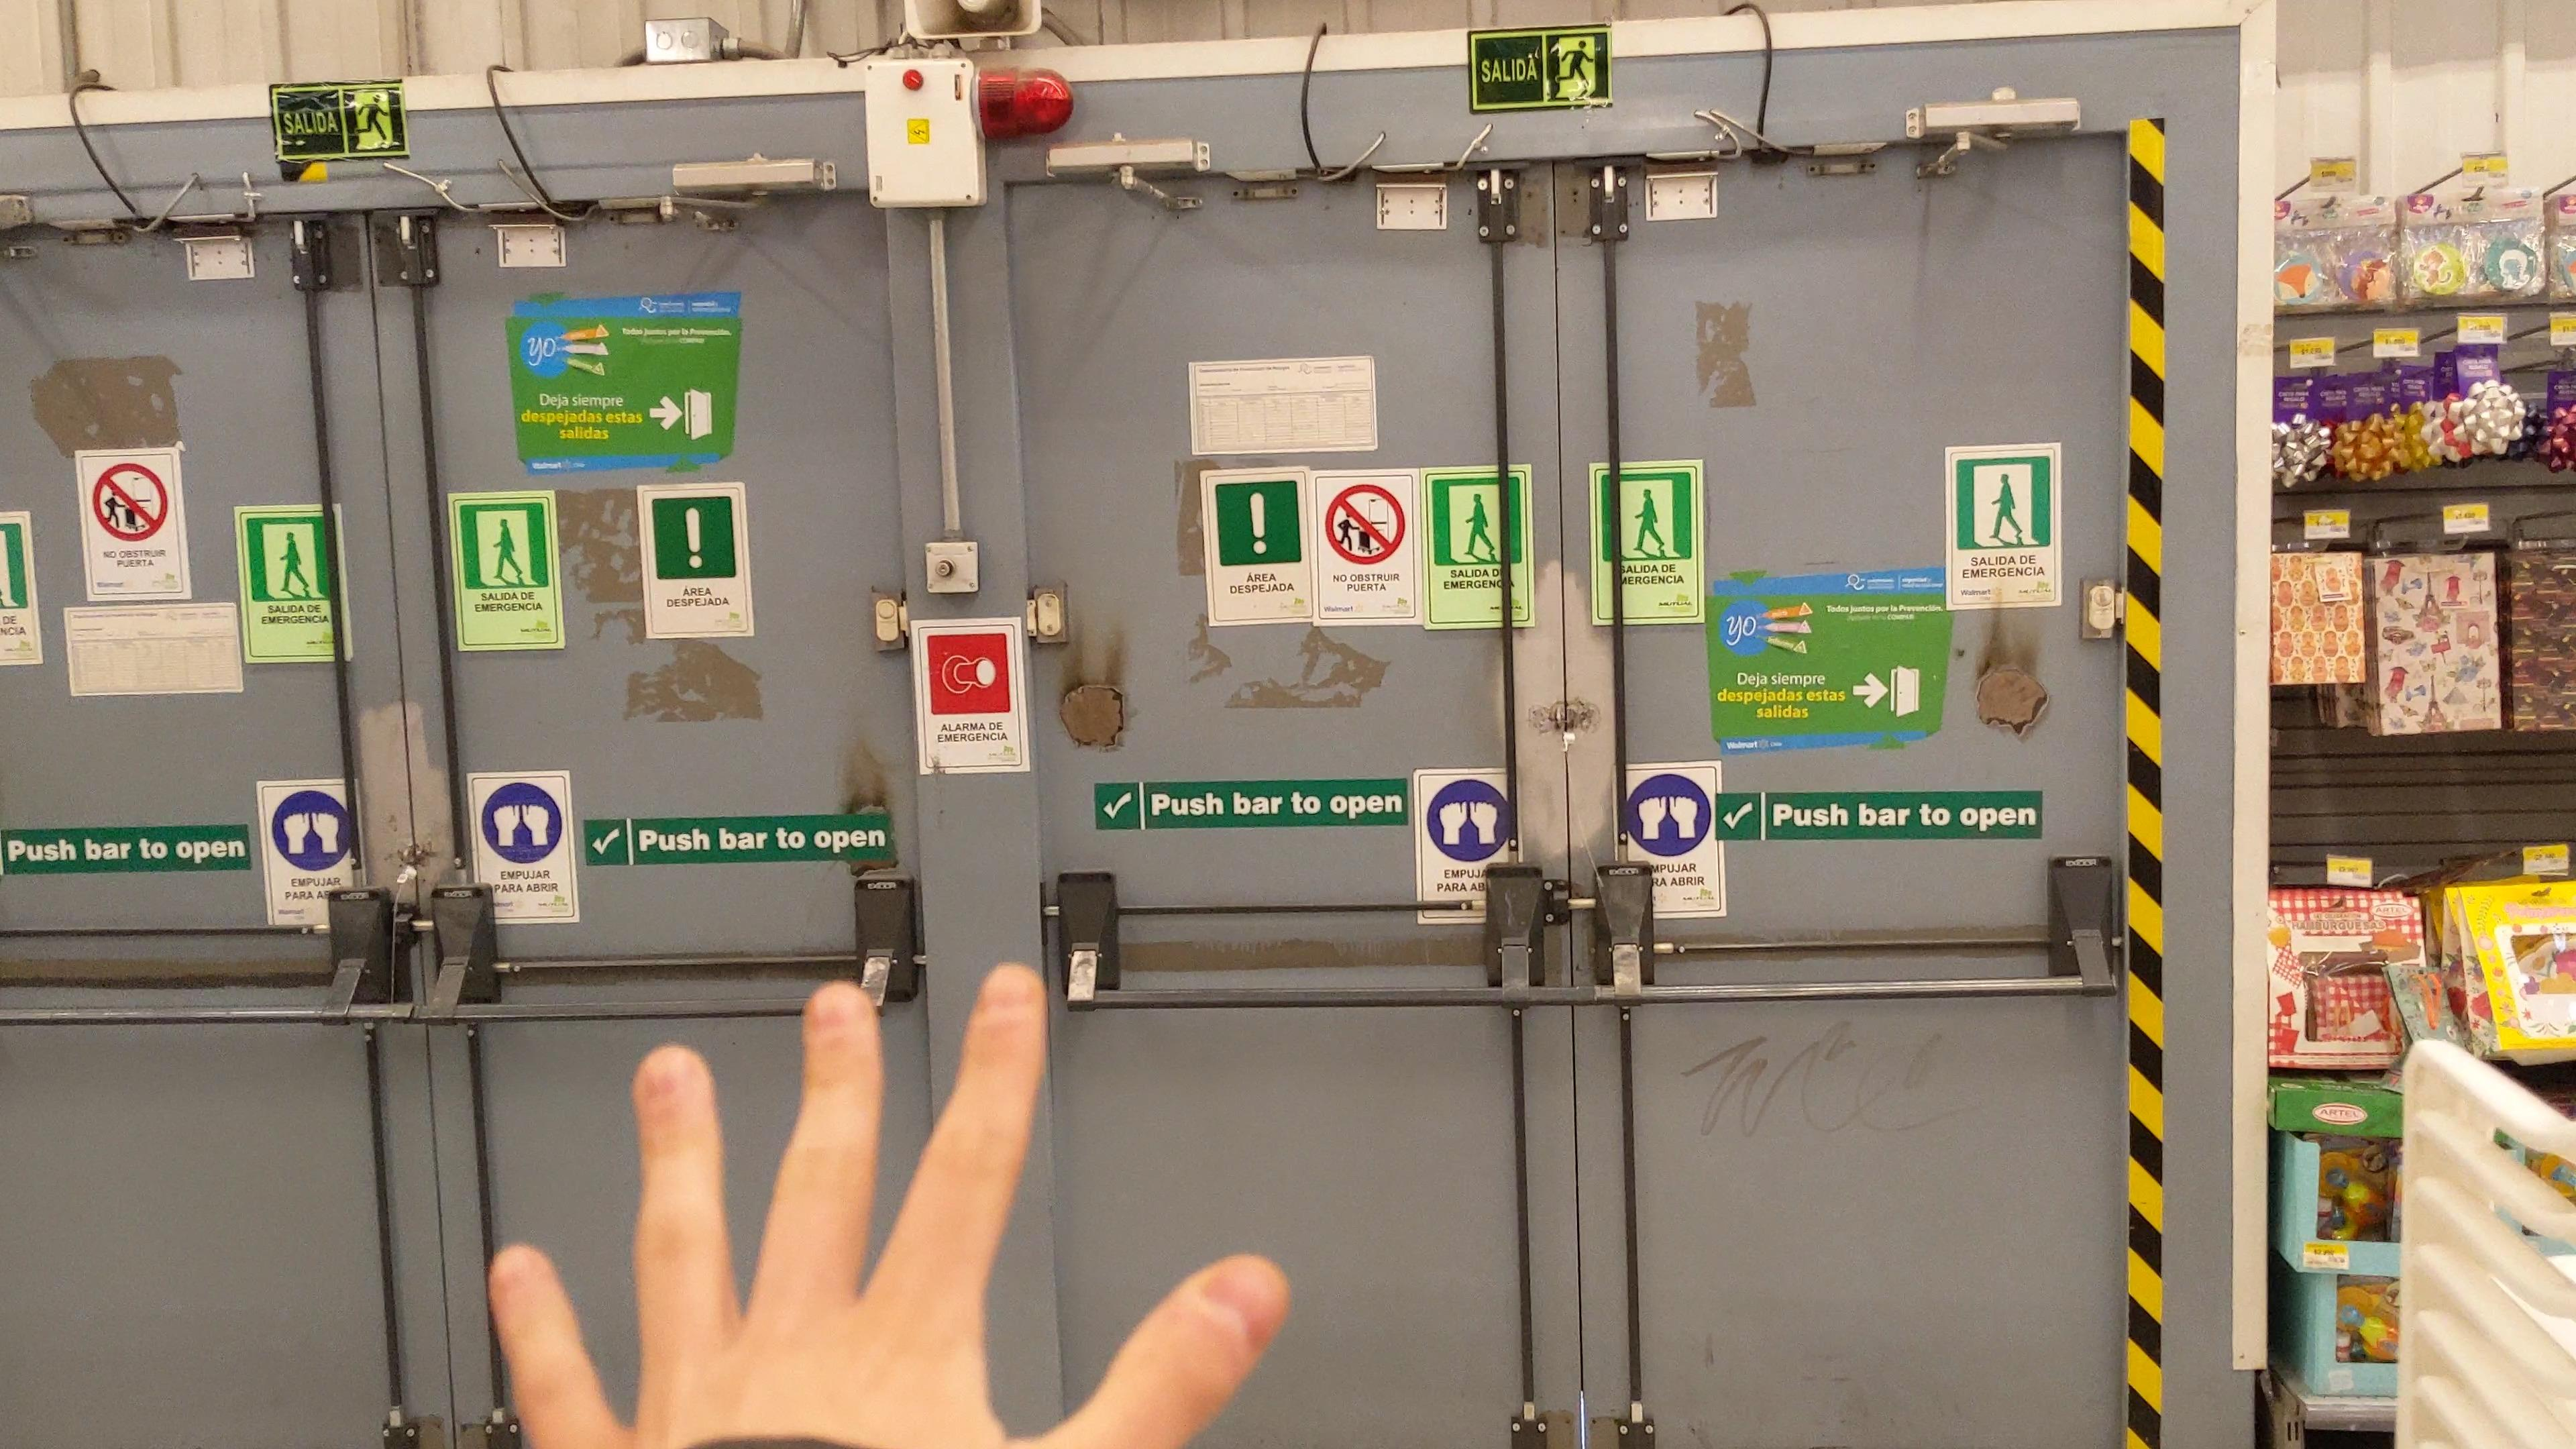emergency exit: (350, 90, 395, 152), (1557, 37, 1599, 99)
